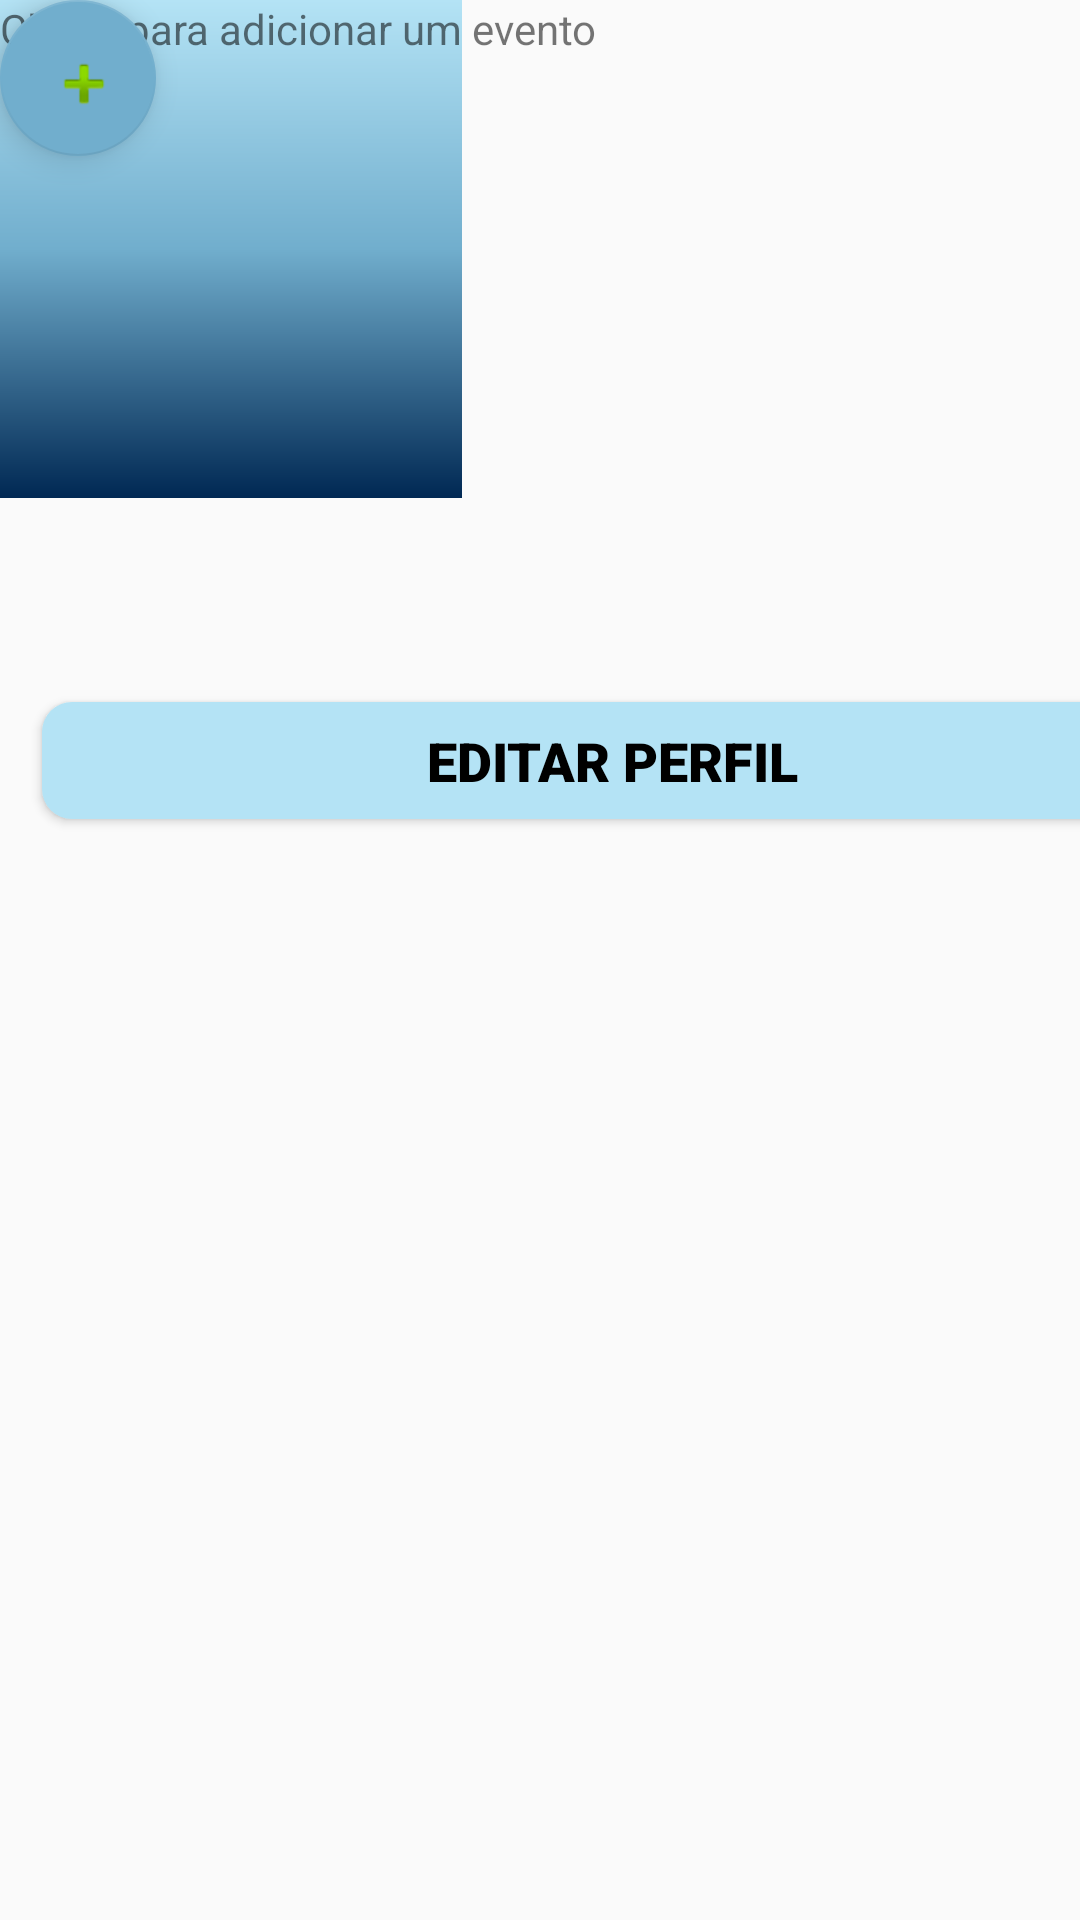

Icons on this 1080 x 1920 Android screen, each with the point to tap as point (x, y):
add: point (78, 78)
